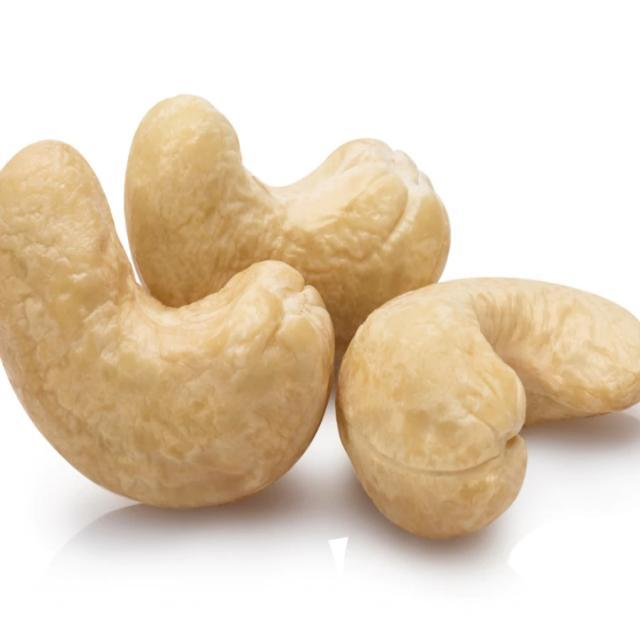Frutta secca: (4, 141, 334, 533), (128, 95, 462, 377), (341, 276, 639, 552)
